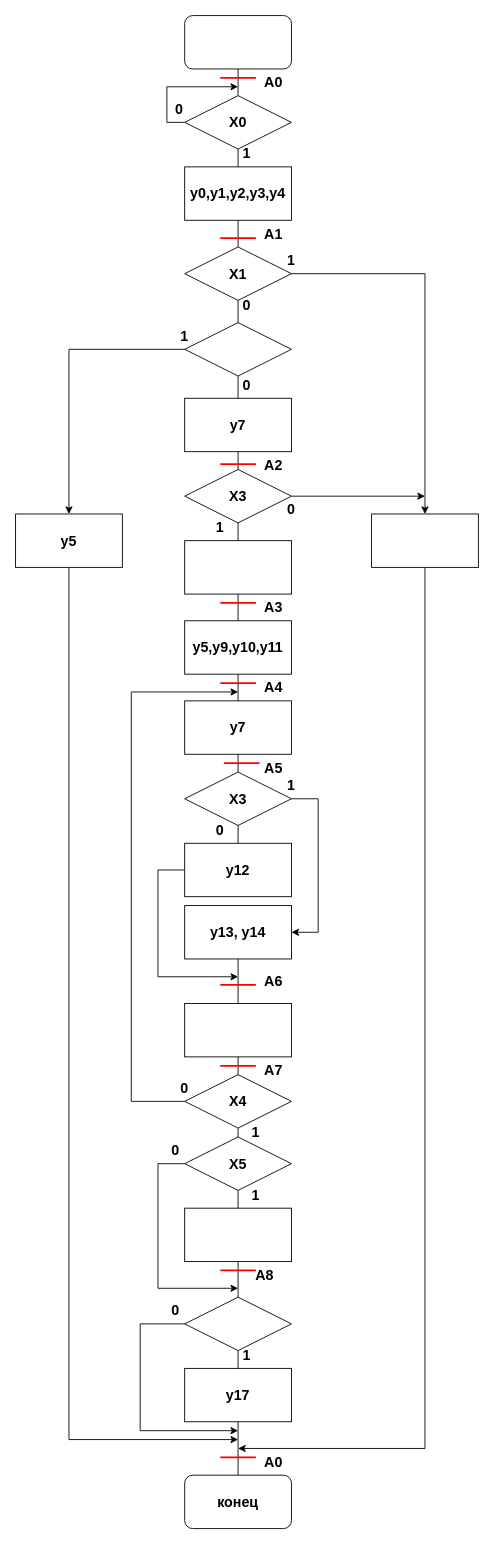
The diagram is 494 pixels wide and 1544 high, and some of its shapes have lost their labels. Each missing label, with the box of its shape:
X2: (184, 322, 291, 376)
X6: (184, 1296, 291, 1351)
y16: (184, 1207, 291, 1262)
y6: (371, 513, 478, 567)
y8: (184, 540, 291, 594)
y9, y10, y15: (184, 1003, 291, 1057)
начало: (184, 15, 291, 69)
